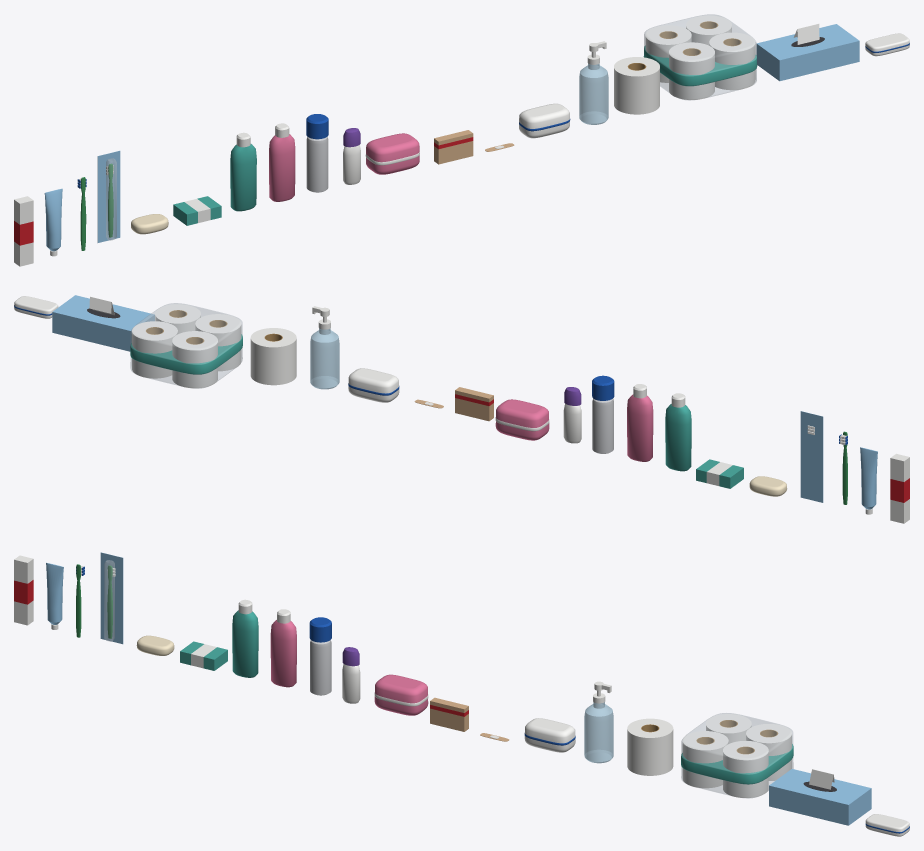
File: todos_os_itens_higiene.dae
3 views of the same model, one above another, from view 1: azimuth 30°, elevation 25°; view 2: azimuth 150°, elevation 25°; view 3: azimuth 330°, elevation 25° (orthographic).
Visible parts, largest first — view 1: Papel higienico - fardo 4 rolos (×3), Lencos de papel - caixa, Escova dental - embalagem (×2), Papel higienico - rolo, Desodorante aerosol (×2), Absorventes - pacote, Shampoo 350ml, Alcool em gel 500ml, Condicionador 350ml, Algodao - pacote, Creme dental - tubo, Curativos - caixa (+5 smaller); view 2: Papel higienico - fardo 4 rolos (×4), Lencos de papel - caixa, Papel higienico - rolo, Escova dental - embalagem, Desodorante aerosol (×2), Absorventes - pacote, Alcool em gel 500ml, Shampoo 350ml, Condicionador 350ml, Algodao - pacote, Creme dental - tubo, Curativos - caixa (+5 smaller); view 3: Papel higienico - fardo 4 rolos (×3), Lencos de papel - caixa, Escova dental - embalagem (×2), Papel higienico - rolo, Alcool em gel 500ml, Absorventes - pacote, Shampoo 350ml, Condicionador 350ml, Algodao - pacote, Desodorante aerosol, Creme dental - tubo, Curativos - caixa (+5 smaller).
Boxes of the visible parts, bbox=[...] form: Papel higienico - fardo 4 rolos (×3): bbox=[643, 14, 757, 100]; Lencos de papel - caixa: bbox=[756, 24, 859, 81]; Escova dental - embalagem (×2): bbox=[97, 150, 120, 242]; Papel higienico - rolo: bbox=[614, 57, 659, 114]; Desodorante aerosol (×2): bbox=[306, 114, 328, 192]; Absorventes - pacote: bbox=[366, 133, 419, 174]; Shampoo 350ml: bbox=[230, 144, 256, 211]; Alcool em gel 500ml: bbox=[579, 63, 608, 124]; Condicionador 350ml: bbox=[269, 134, 295, 201]; Algodao - pacote: bbox=[519, 103, 569, 138]; Creme dental - tubo: bbox=[44, 188, 62, 251]; Curativos - caixa: bbox=[434, 130, 473, 164]; Papel higienico - fardo 4 rolos (×4): bbox=[130, 303, 242, 388]; Lencos de papel - caixa: bbox=[52, 295, 154, 351]; Papel higienico - rolo: bbox=[250, 328, 296, 385]; Escova dental - embalagem: bbox=[800, 411, 823, 502]; Desodorante aerosol (×2): bbox=[592, 375, 614, 453]; Absorventes - pacote: bbox=[495, 399, 549, 440]; Alcool em gel 500ml: bbox=[310, 328, 339, 389]; Shampoo 350ml: bbox=[665, 404, 691, 471]; Condicionador 350ml: bbox=[627, 394, 653, 461]; Algodao - pacote: bbox=[348, 368, 399, 402]; Creme dental - tubo: bbox=[860, 447, 877, 509]; Curativos - caixa: bbox=[455, 387, 493, 421]; Papel higienico - fardo 4 rolos (×3): bbox=[681, 713, 793, 798]; Lencos de papel - caixa: bbox=[769, 769, 871, 825]; Escova dental - embalagem (×2): bbox=[100, 552, 123, 644]; Papel higienico - rolo: bbox=[627, 718, 673, 775]; Alcool em gel 500ml: bbox=[584, 702, 613, 763]; Absorventes - pacote: bbox=[374, 674, 428, 715]; Shampoo 350ml: bbox=[232, 610, 258, 677]; Condicionador 350ml: bbox=[270, 620, 296, 687]; Algodao - pacote: bbox=[524, 718, 575, 752]; Desodorante aerosol: bbox=[310, 640, 331, 695]; Creme dental - tubo: bbox=[46, 562, 63, 624]; Curativos - caixa: bbox=[430, 697, 468, 731].
Bounding box in the file's own units: 2450 × 225 × 228.
